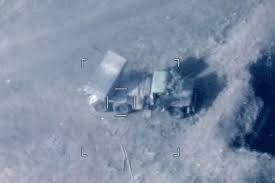MIL_SAM_TEL: (83, 48, 202, 120)
